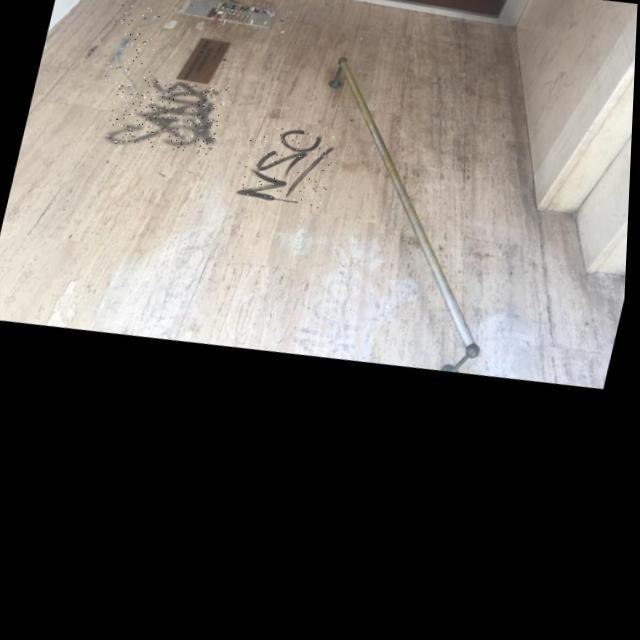-: (105, 70, 230, 166), (238, 124, 342, 220), (104, 3, 166, 97)
